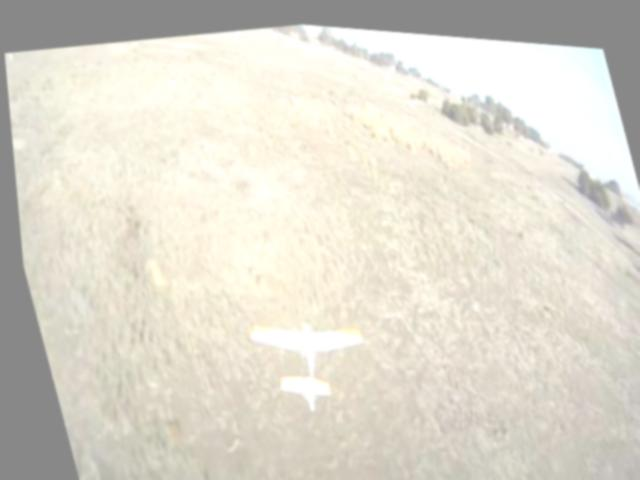uav: (232, 292, 381, 425)
